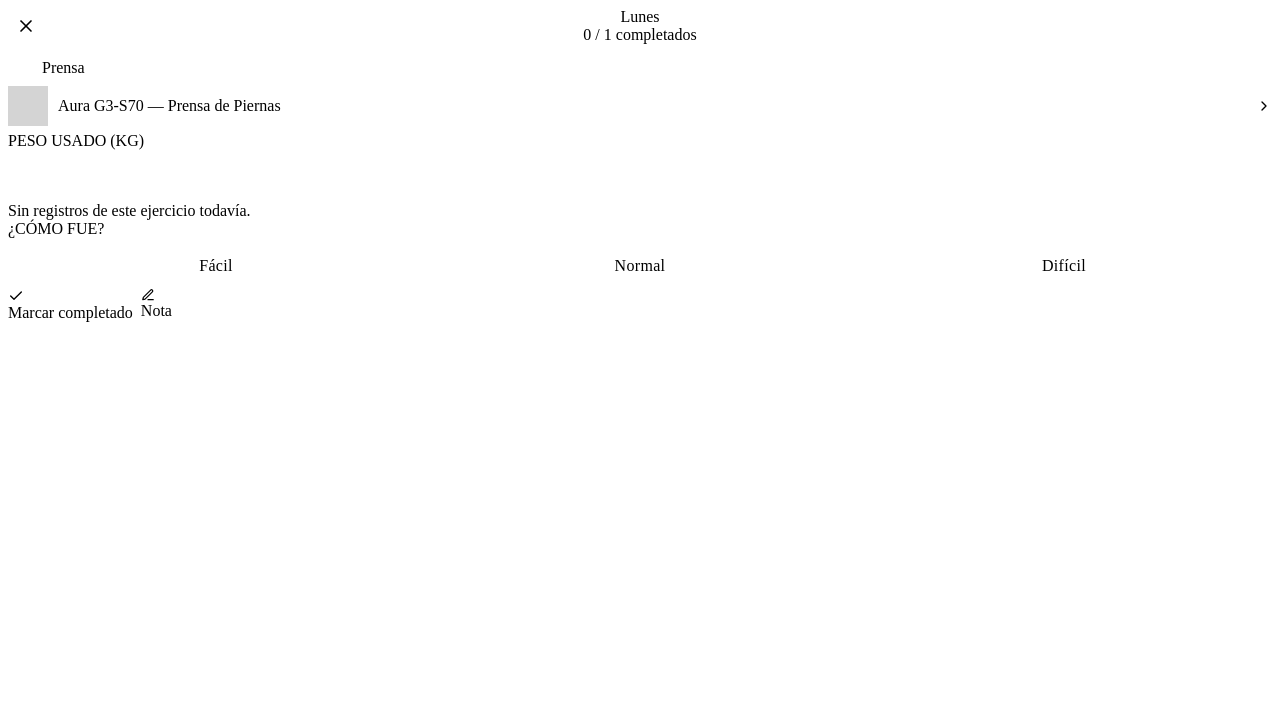
S1 — club absence report inside the equipment reference sheet (AC1, AC2, AC4) › renders NO action with no club selected — the row is today's row (AC4)
What coordinates should you click on to do the following:
click the button "Aura G3-S70 — Prensa de Piernas"
I would click on:
 (28, 106)
Its box is [8, 80, 1272, 132].
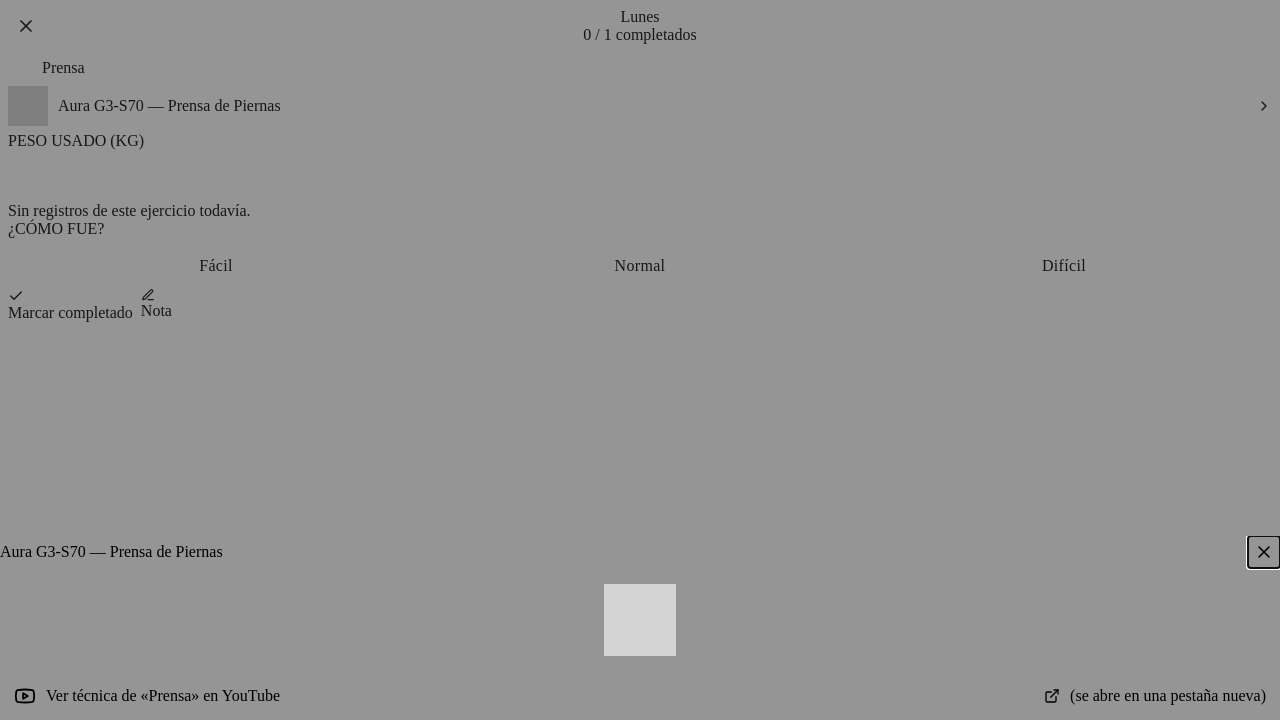
Now the dialog is shown, box [0, 536, 1279, 719]
